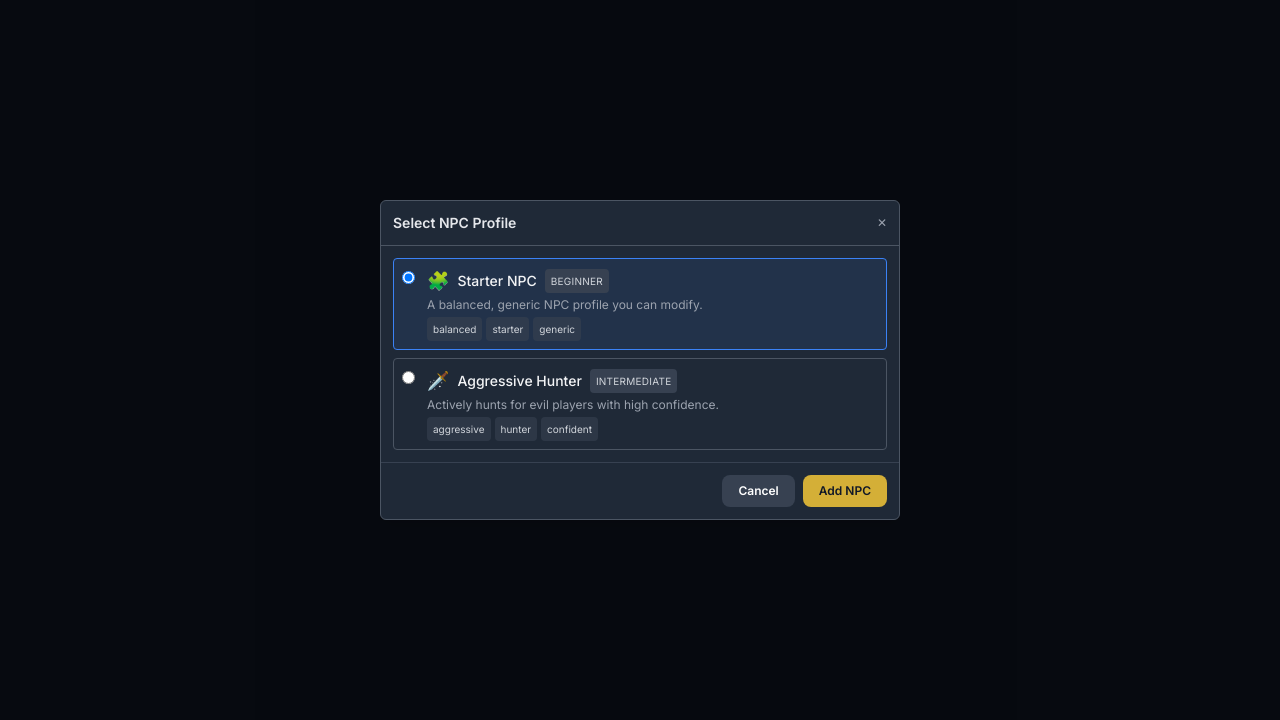
it: NPCProfileSelectModal › allows selecting a different profile
Expected: the text "Aggressive Hunter" is shown, [458,371,582,391]
# Select the aggressive hunter profile
Step 1. Click the radio button showing "aggressive-hunter" → (408, 378), box [402,371,415,384]
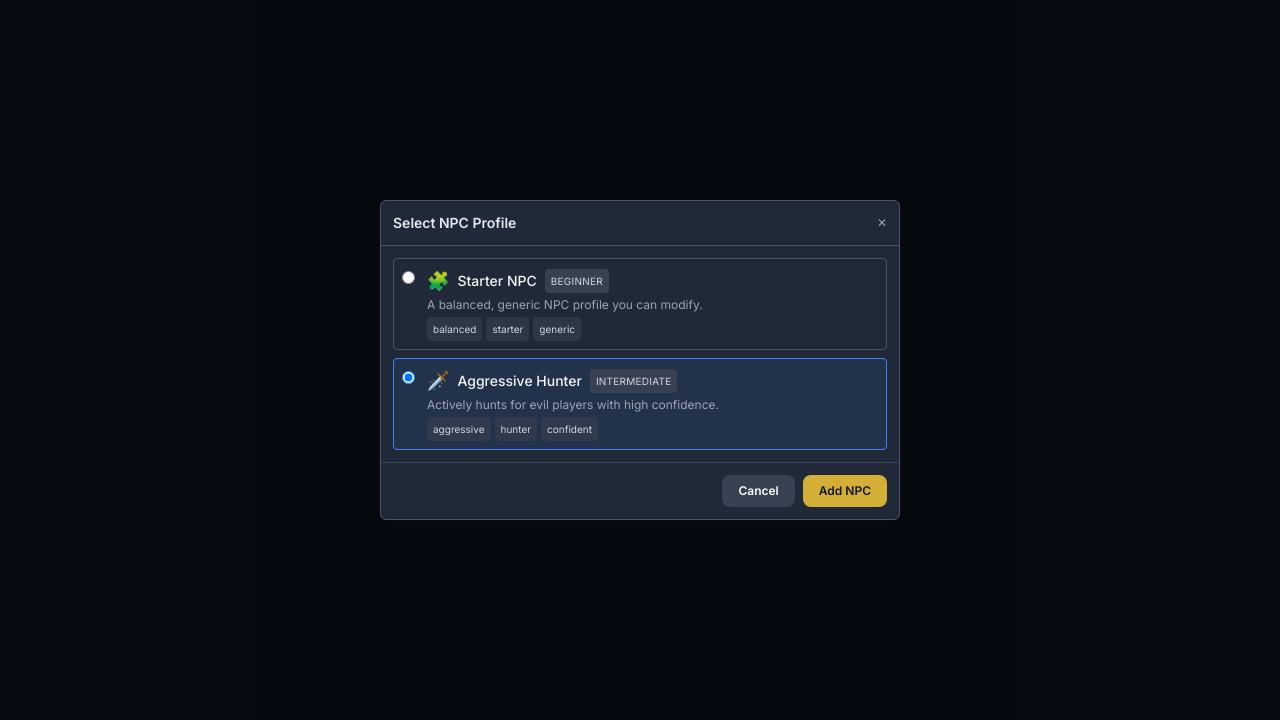
Expected: the radio button showing "aggressive-hunter" is checked, [402,371,415,384]
Expected: the radio button showing "starter-generic" is not checked, [402,271,415,284]
